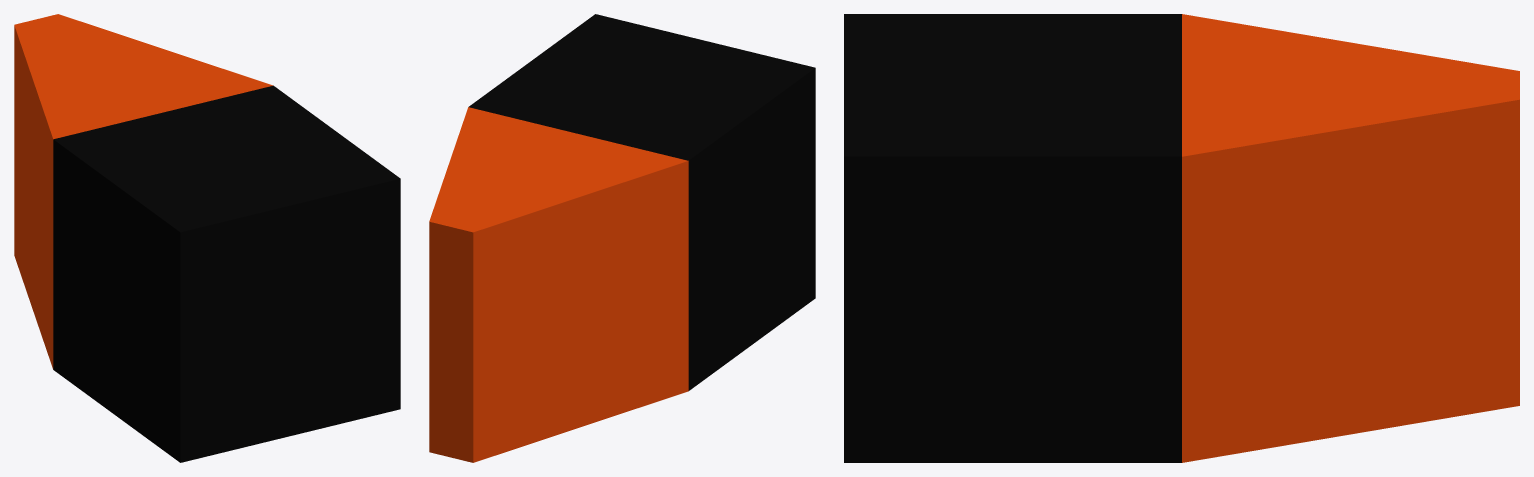
File: enemy.fbx
3 views of the same model, side by side, from view 1: azimuth 30°, elevation 25°; view 2: azimuth 150°, elevation 25°; view 3: azimuth 270°, elevation 25° (orthographic). The views are drawn at different scales.
Visible parts, largest first — view 1: Cube; view 2: Cube; view 3: Cube.
Boxes of the visible parts, bbox=[...] form: Cube: bbox=[14, 14, 400, 462]; Cube: bbox=[429, 14, 815, 462]; Cube: bbox=[844, 14, 1519, 462].
Bounding box in the file's own units: 200 × 200 × 400.
